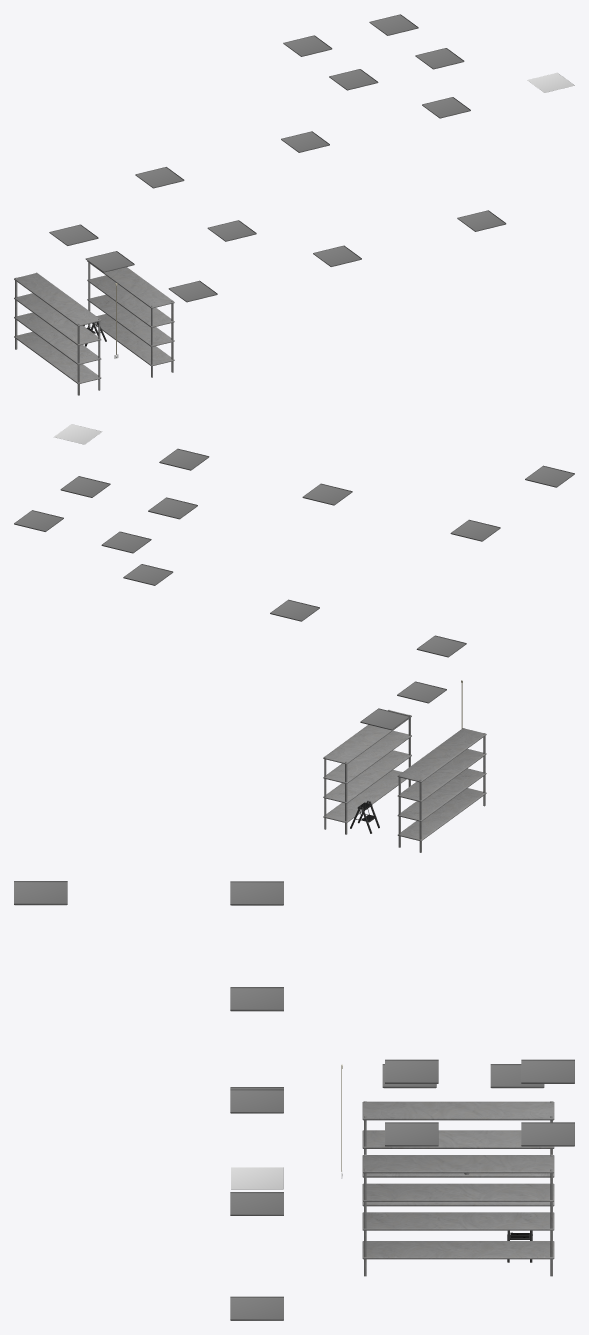
The model's file is expo_3.fbx.
The picture shows the model from 3 angles, top to bottom: view 1: azimuth 30°, elevation 25°; view 2: azimuth 150°, elevation 25°; view 3: azimuth 270°, elevation 25°; orthographic projection. The views are drawn at different scales.
Visible parts, largest first — view 1: ligyht, Cube, Cube.013; view 2: ligyht, Cube, Cube.013; view 3: ligyht, Cube.013, Cube.
Part boxes in pixels (<box>): ligyht: <box>49,14,574,358</box>; Cube: <box>14,272,101,395</box>; Cube.013: <box>87,261,174,377</box>; ligyht: <box>14,424,574,730</box>; Cube: <box>397,728,486,852</box>; Cube.013: <box>323,710,411,834</box>; ligyht: <box>14,881,574,1320</box>; Cube.013: <box>362,1154,554,1276</box>; Cube: <box>362,1101,554,1206</box>.
Size of the model in its own units: 1166 by 575 by 841.
